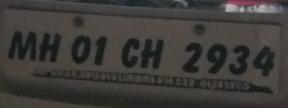0: (70, 32, 91, 63)
1: (93, 34, 108, 69)
2: (177, 38, 204, 75)
3: (229, 44, 251, 76)
4: (253, 43, 278, 76)
9: (205, 40, 230, 76)
C: (119, 36, 140, 69)
H: (39, 29, 63, 64), (142, 36, 165, 69)
M: (5, 26, 38, 65)
